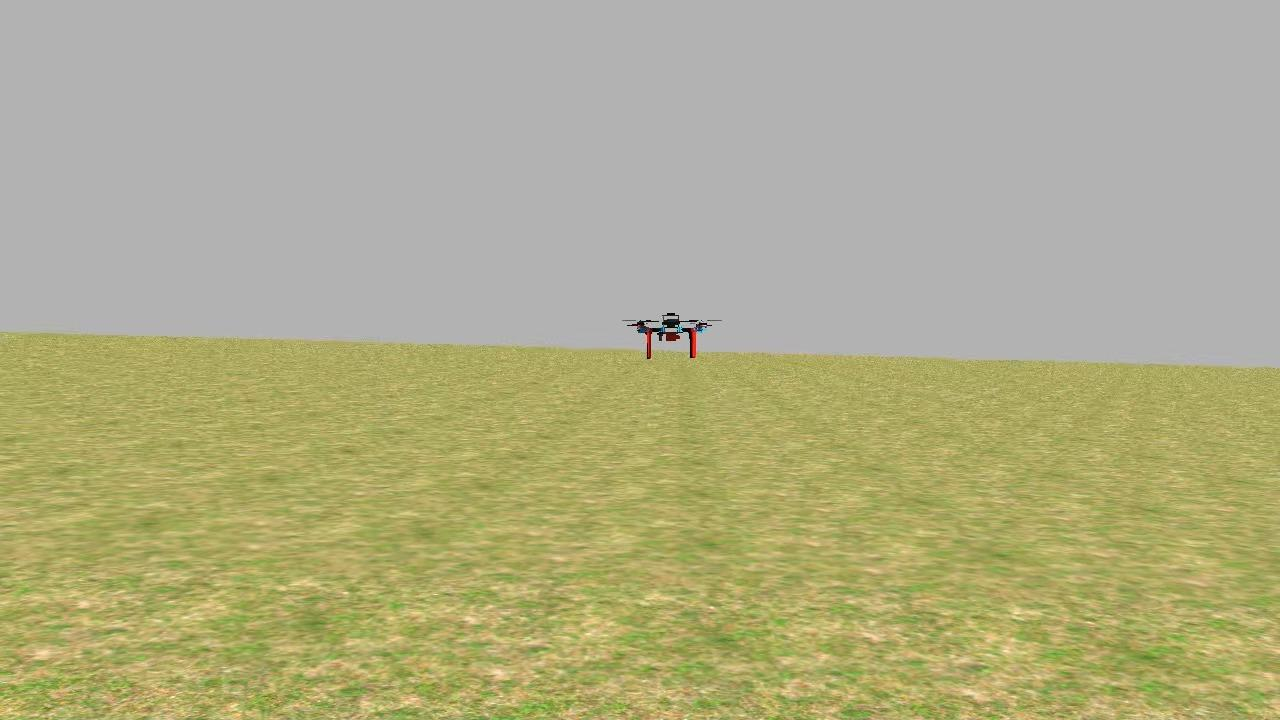UAV: (625, 294, 737, 368)
